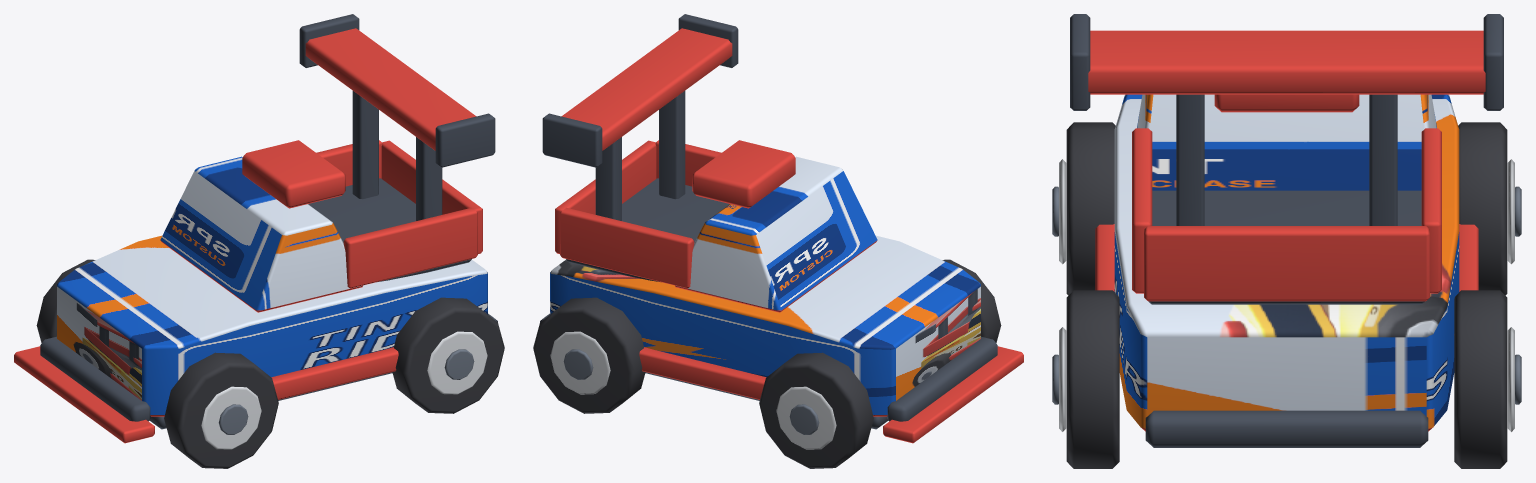
3 views of the same model, side by side, from view 1: azimuth 30°, elevation 25°; view 2: azimuth 150°, elevation 25°; view 3: azimuth 270°, elevation 25° (orthographic). The views are drawn at different scales.
Visible parts, largest first — view 1: TC-03_connected_shell, TC-03_cabin, rear airfoil, Tire, Tire.002, cargo side, custom equipment, cargo floor, custom chin, custom side guard, front bumper, wing support.001 (+10 smaller); view 2: TC-03_connected_shell, TC-03_cabin, rear airfoil, Tire.001, Tire.003, cargo side.001, custom equipment, cargo floor, custom chin, custom side guard.001, front bumper, wing support (+10 smaller); view 3: TC-03_connected_shell, rear airfoil, cargo tail, TC-03_cabin, rear bumper, Tire.002, Tire.003, cargo floor, Tire, Tire.001, wing support, wing support.001 (+11 smaller).
Part boxes in pixels (x1,y1,x2,y2): TC-03_connected_shell: [57, 235, 487, 416]; TC-03_cabin: [160, 156, 362, 312]; rear airfoil: [305, 28, 476, 150]; Tire: [164, 352, 278, 468]; Tire.002: [392, 297, 504, 413]; cargo side: [343, 207, 477, 288]; custom equipment: [242, 140, 345, 208]; cargo floor: [308, 178, 471, 281]; custom chin: [14, 346, 154, 443]; custom side guard: [271, 347, 398, 399]; front bumper: [40, 336, 150, 421]; wing support.001: [352, 91, 378, 199]; TC-03_connected_shell: [550, 235, 980, 416]; TC-03_cabin: [675, 156, 877, 312]; rear airfoil: [561, 28, 732, 150]; Tire.001: [759, 352, 873, 468]; Tire.003: [533, 297, 645, 413]; cargo side.001: [560, 207, 694, 288]; custom equipment: [692, 140, 795, 208]; cargo floor: [566, 178, 729, 281]; custom chin: [883, 346, 1023, 443]; custom side guard.001: [639, 347, 766, 399]; front bumper: [887, 336, 997, 421]; wing support: [659, 91, 685, 199]; TC-03_connected_shell: [1114, 94, 1459, 431]; rear airfoil: [1088, 30, 1485, 94]; cargo tail: [1144, 226, 1429, 301]; TC-03_cabin: [1137, 94, 1436, 190]; rear bumper: [1145, 410, 1428, 447]; Tire.002: [1066, 290, 1119, 468]; Tire.003: [1454, 290, 1507, 468]; cargo floor: [1148, 190, 1425, 304]; Tire: [1066, 122, 1115, 295]; Tire.001: [1458, 122, 1507, 295]; wing support: [1176, 94, 1204, 225]; wing support.001: [1369, 94, 1397, 225].
Bounding box in the file's own units: 332 × 237 × 230.
